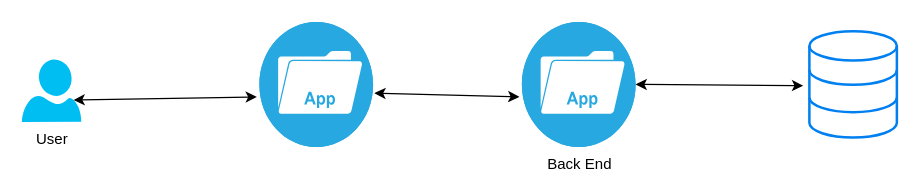
Image size: 919x195. Some labels were removed from this diagram. Each missing label, with the centre of its shape:
"Database" goes at (853,83).
"Front End" goes at (315,84).
